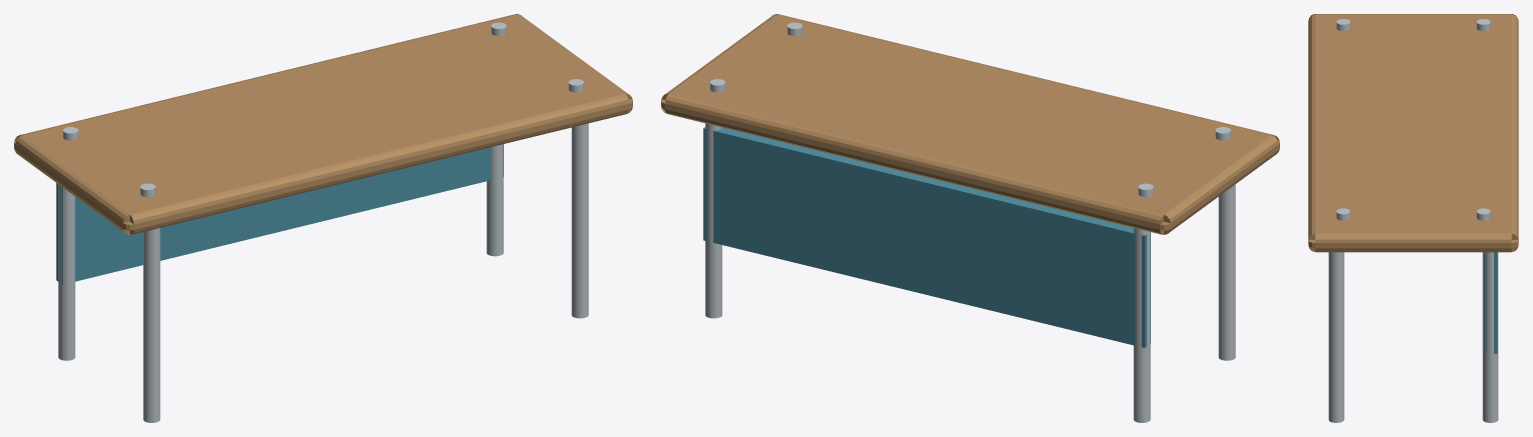
File: basketball-club-and-street-courts-scorer-table-8614e975__28551.glb
The picture shows the model from 3 angles, left to right: view 1: azimuth 30°, elevation 25°; view 2: azimuth 150°, elevation 25°; view 3: azimuth 270°, elevation 25°; orthographic projection. The views are drawn at different scales.
Parts seen in each view (by area): view 1: scorer-table; view 2: scorer-table; view 3: scorer-table.
Part boxes in pixels (x1,y1,x2,y2): scorer-table: (14, 14, 632, 422); scorer-table: (661, 14, 1279, 422); scorer-table: (1308, 14, 1518, 422).
Size of the model in its own units: 1.9 by 0.82 by 0.7499.
